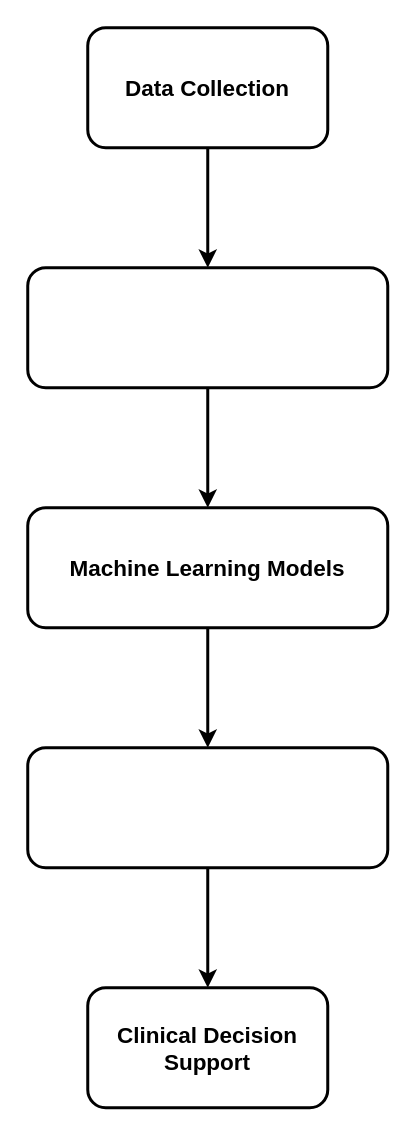
Some shapes in this 414 by 1134 pixel diagram are drawn without their labels. The centre of each missing label's shape, as x and y in pixels:
"Data Preprocessing" goes at (x=207, y=327).
"Prediction & Diagnosis" goes at (x=207, y=807).
